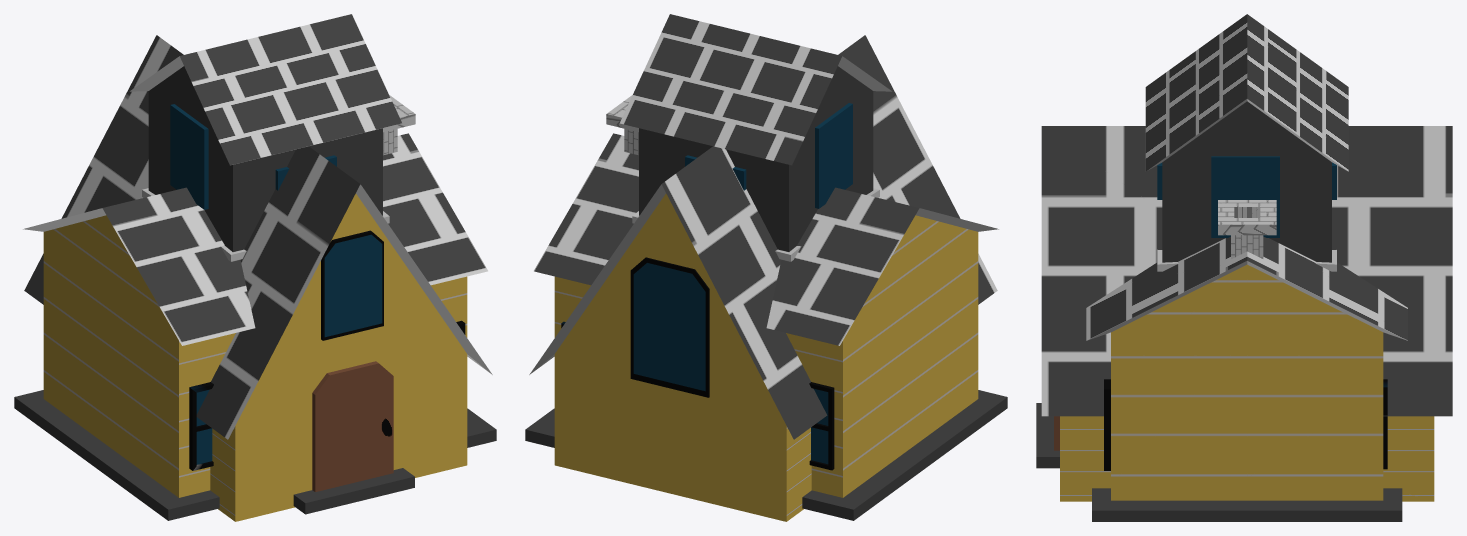
The model's file is houses.fbx.
3 views of the same model, side by side, from view 1: azimuth 30°, elevation 25°; view 2: azimuth 150°, elevation 25°; view 3: azimuth 270°, elevation 25° (orthographic).
Parts seen in each view (by area): view 1: Cube.003, Cube.002, Cube.001; view 2: Cube.003, Cube.002, Cube.001; view 3: Cube.002, Cube.003, Cube.001.
Boxes of the visible parts, x1,y1,x2,y2 form: Cube.003: (24,35,492,521); Cube.002: (14,95,496,520); Cube.001: (130,14,402,261); Cube.003: (529,35,997,521); Cube.002: (525,95,1007,520); Cube.001: (619,14,891,261); Cube.002: (1036,200,1407,521); Cube.003: (1041,126,1452,501); Cube.001: (1145,14,1348,271).
Bounding box in the file's own units: 1402 × 1587 × 1528.
1 material, 1 textured.
